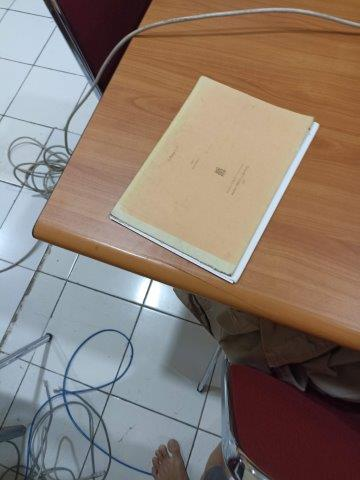kertas: (110, 75, 320, 281)
